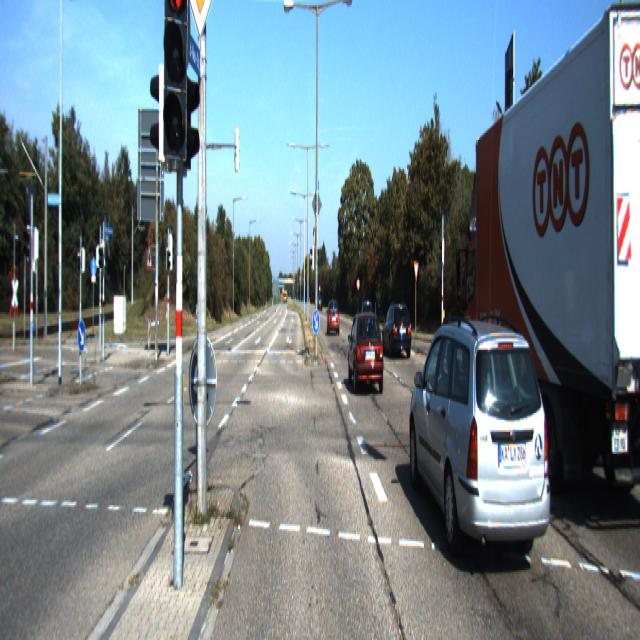Car: (456, 0, 640, 550), (408, 314, 556, 592), (348, 310, 384, 397), (381, 301, 413, 359), (326, 300, 339, 336)
